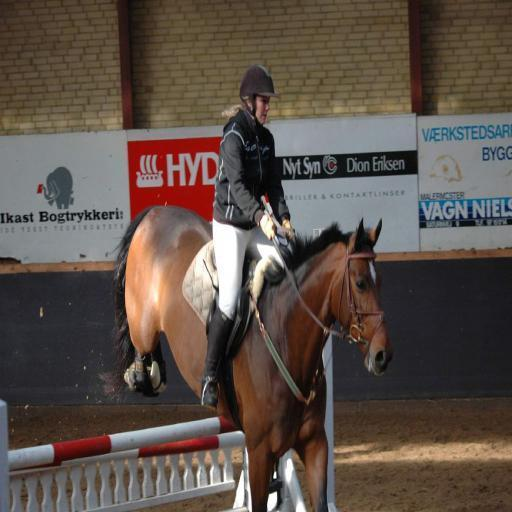horse: (100, 202, 392, 512)
